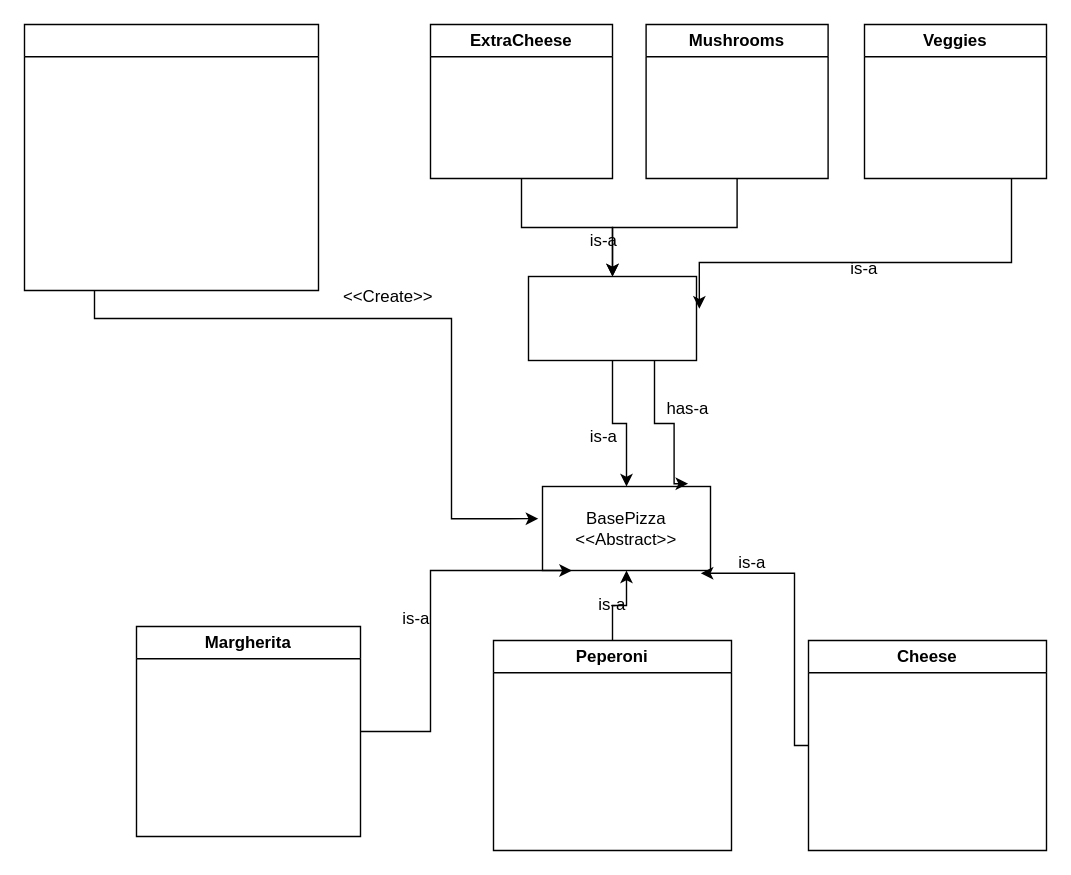
This 1071x875 diagram has some shape labels left out. The centre of each missing label's shape, as x and y in pixels:
Decorator <<Abstract>>: pixel 611 317
OrderingSystem: pixel 170 156
